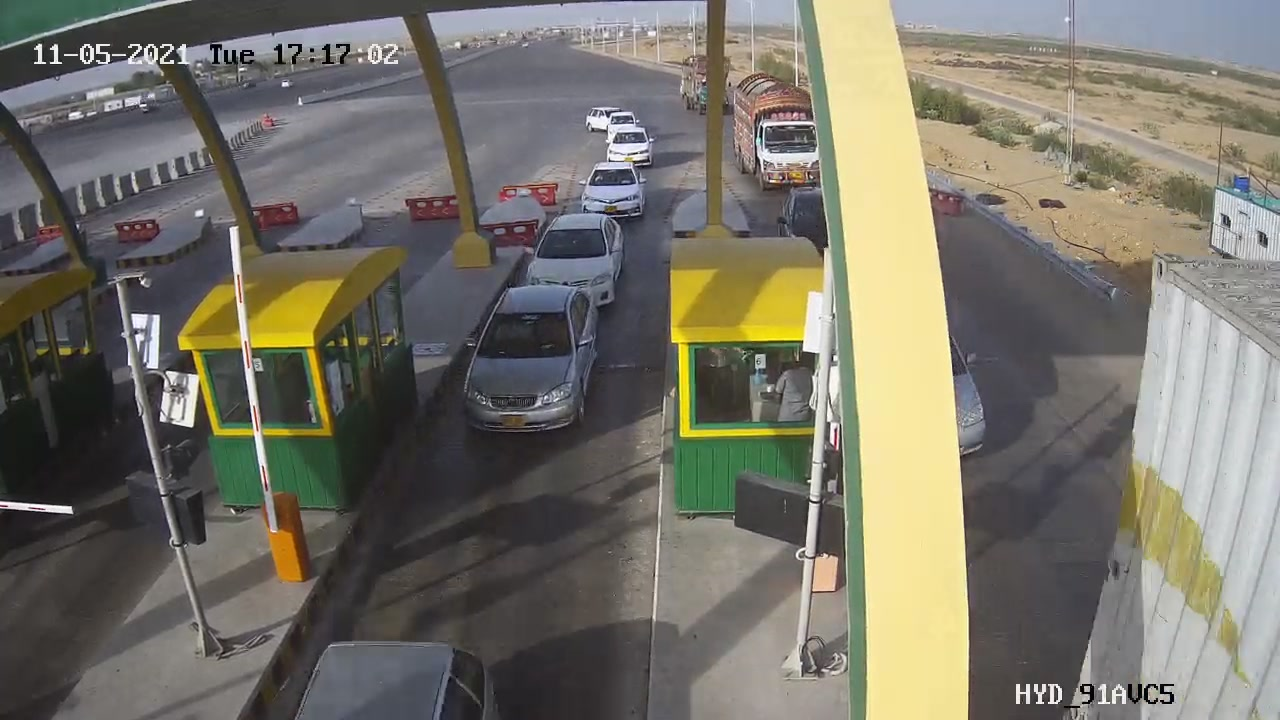F1: (439, 270, 620, 448), (508, 201, 640, 318)
